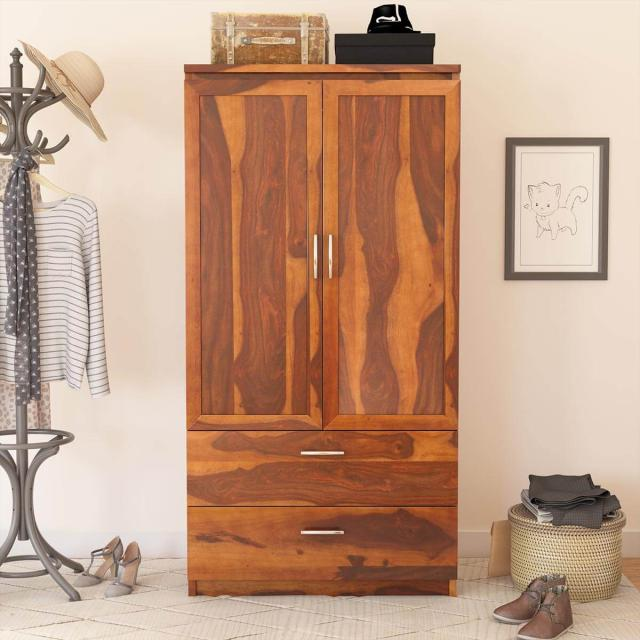Woods: (183, 66, 460, 597)
